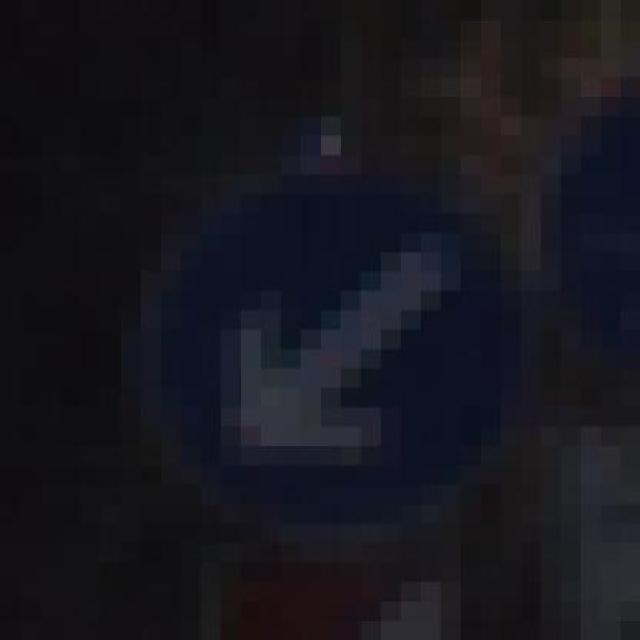Keep-Left: (120, 135, 560, 543)
